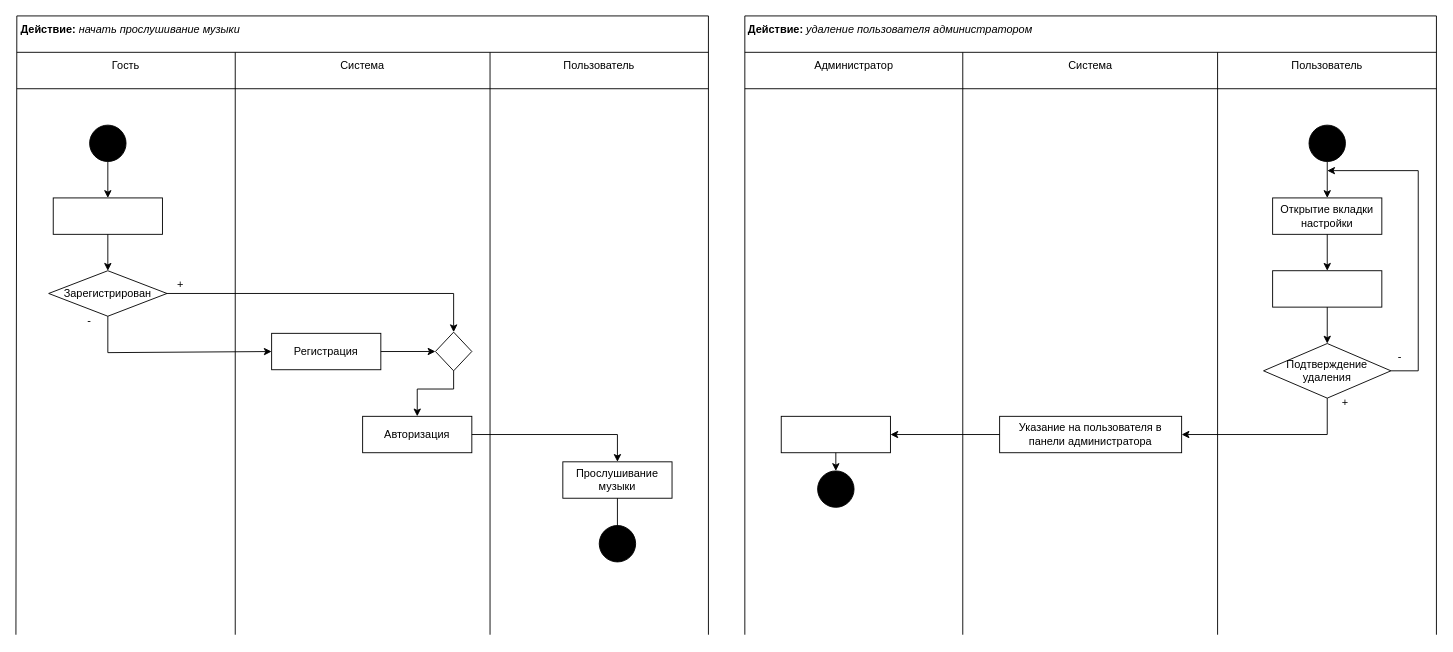
Image size: 1453x652. Some labels were removed from this diagram. The box of each missing label's shape, as (x1, y1, x2, y2) in pixels:
Оставление заявки на удаление: (1272, 270, 1382, 307)
Просмотр превью-страницы: (52, 197, 162, 234)
Удаление аккаунта: (780, 415, 890, 453)
